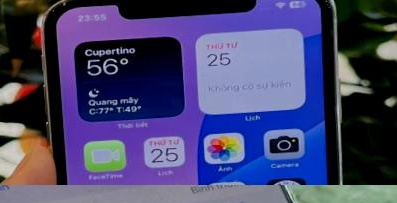scratch: (36, 0, 85, 23), (300, 0, 344, 20)
